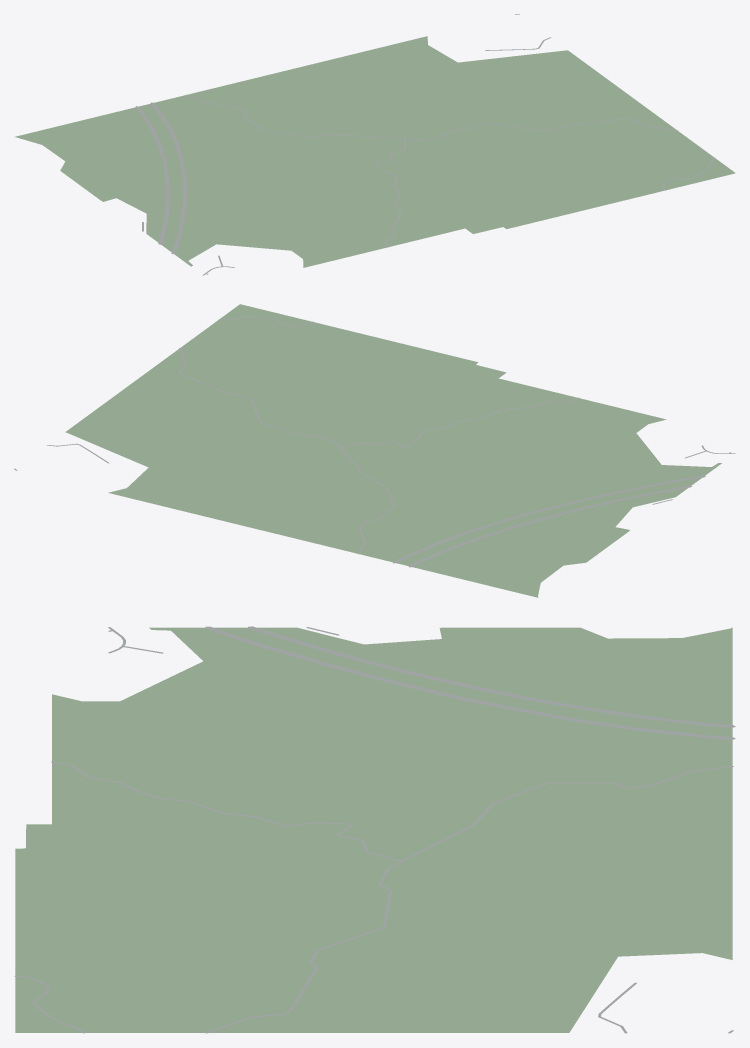
File: 6_4-known-coarse.glb
The picture shows the model from 3 angles, top to bottom: view 1: azimuth 30°, elevation 25°; view 2: azimuth 150°, elevation 25°; view 3: azimuth 270°, elevation 25°; orthographic projection. The views are drawn at different scales.
Bounding box in the file's own units: 1004 × 0.1 × 753.
